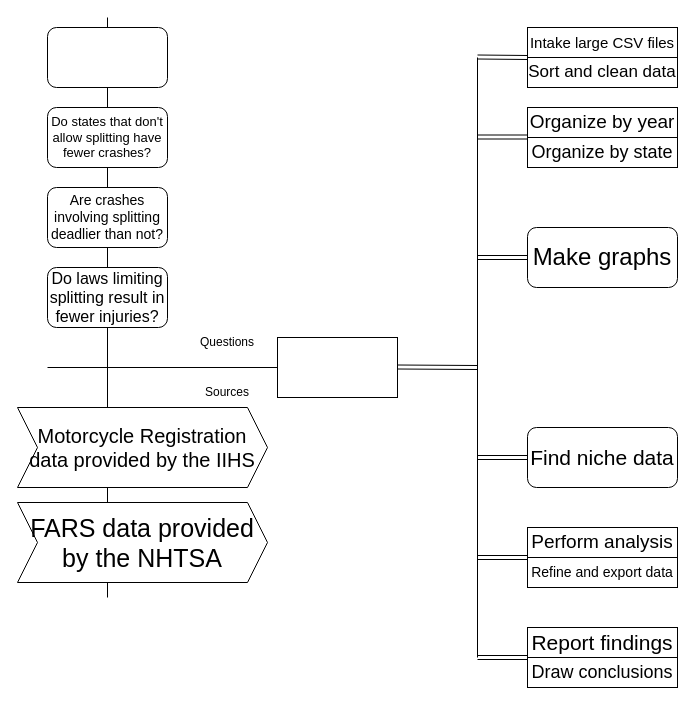
Image size: 695x705. Some labels were removed from this diagram. The shapes that lost their labels are listed below. From the top down, each one's centre as x and y in pixels, then its label:
the point at 107,57: Does motorcycle type affect the safety of crashes?
the point at 337,367: Analysis!
